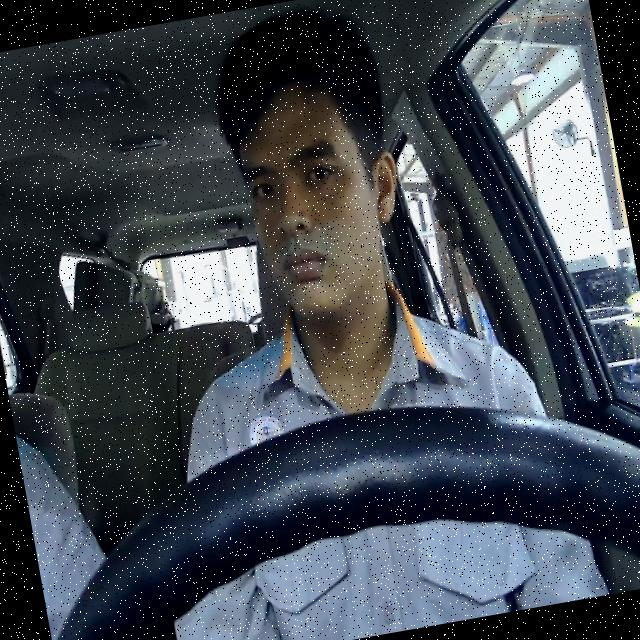seeing_left: (226, 66, 419, 326)
